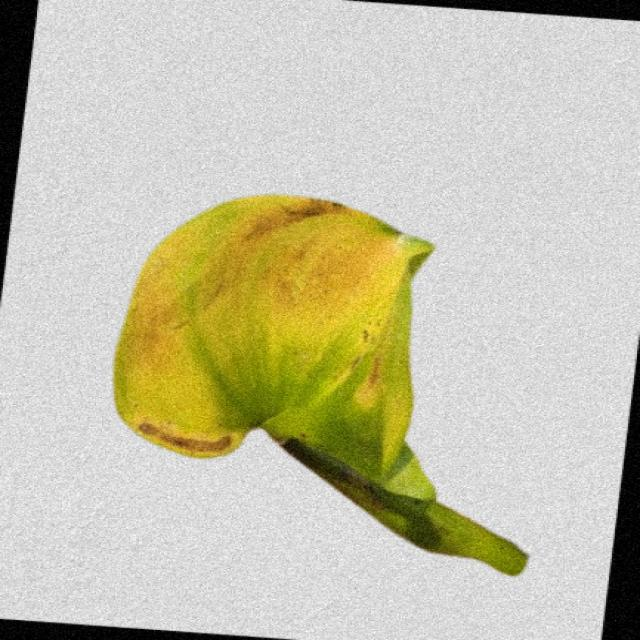daun berpenyakit kuning: (115, 195, 526, 574)
